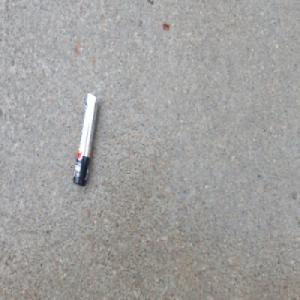Battery: (71, 90, 99, 189)
